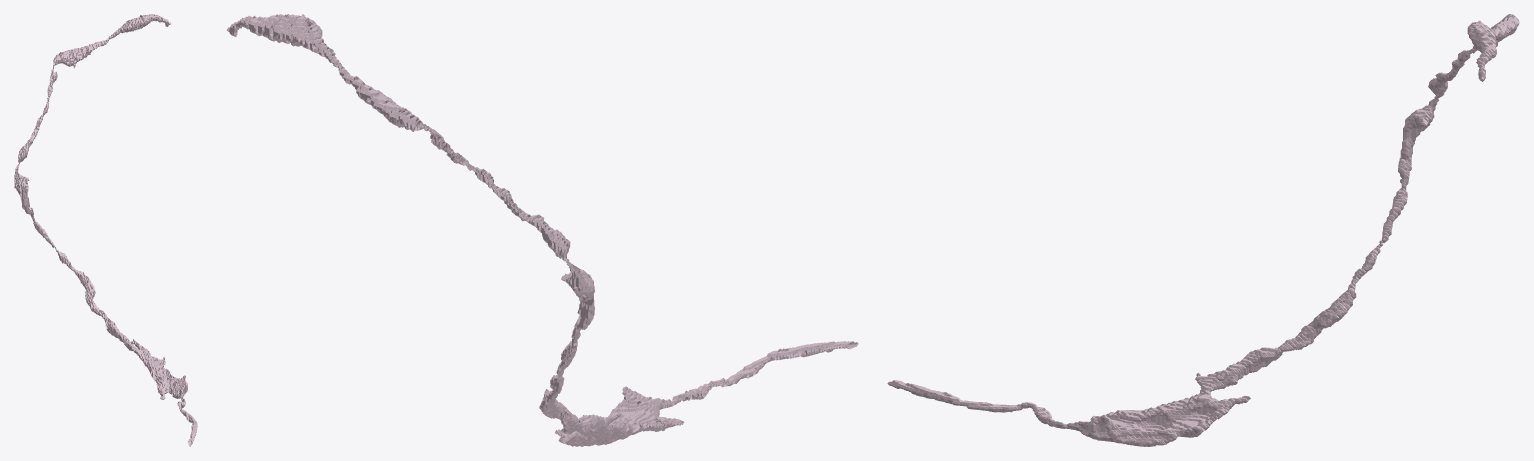
The model's file is SVV_AIYL.gltf.
3 views of the same model, side by side, from view 1: azimuth 30°, elevation 25°; view 2: azimuth 150°, elevation 25°; view 3: azimuth 270°, elevation 25° (orthographic). The views are drawn at different scales.
Visible parts, largest first — view 1: AIYL; view 2: AIYL; view 3: AIYL.
Boxes of the visible parts, x1=… form: AIYL: x1=14, y1=14, x2=197, y2=446; AIYL: x1=226, y1=14, x2=858, y2=446; AIYL: x1=887, y1=14, x2=1519, y2=446.
Bounding box in the file's own units: 100221 × 153696 × 186164.
